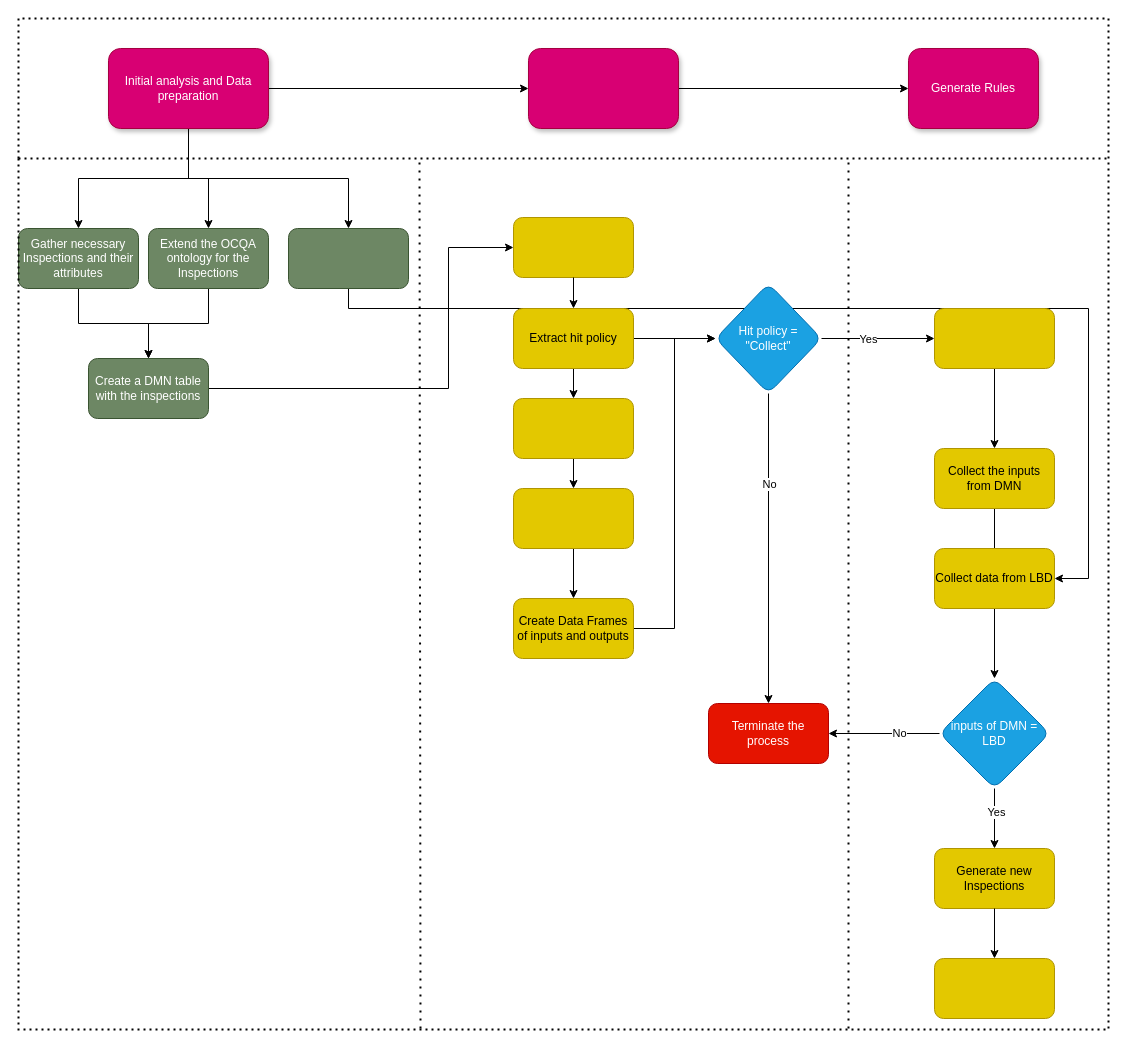
The diagram is 1126 pixels wide and 1047 high, and some of its shapes have lost their labels. Here are the shapes that lost their labels. From the top down, the centre of each, then its label:
the point at 604,90: DMN Parsing
the point at 348,258: Convert IFC building into OWL-LBD
the point at 573,247: Parse DMN table as XML
the point at 994,338: Iterate over each row of Inputs and Outputs
the point at 573,428: Extract Inputs and Outputs
the point at 573,518: Convert any FEEL expression
the point at 994,988: Get the corresponding inspections from outputs
